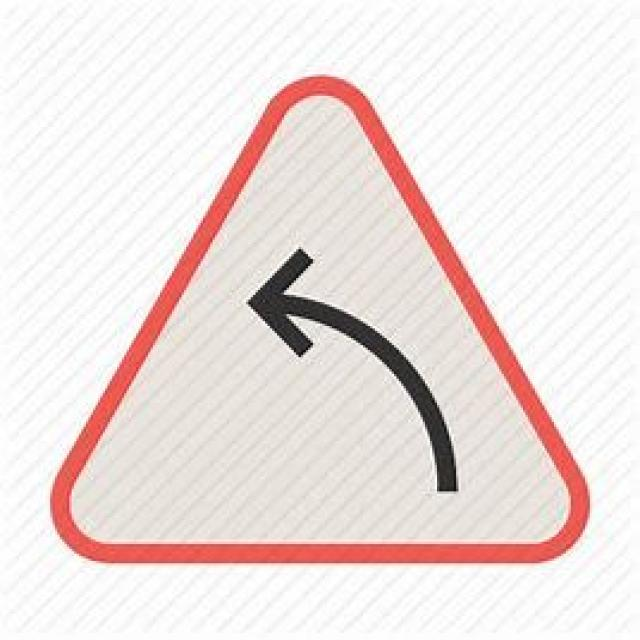LEFT_HAND_CURVE: (49, 79, 588, 561)
